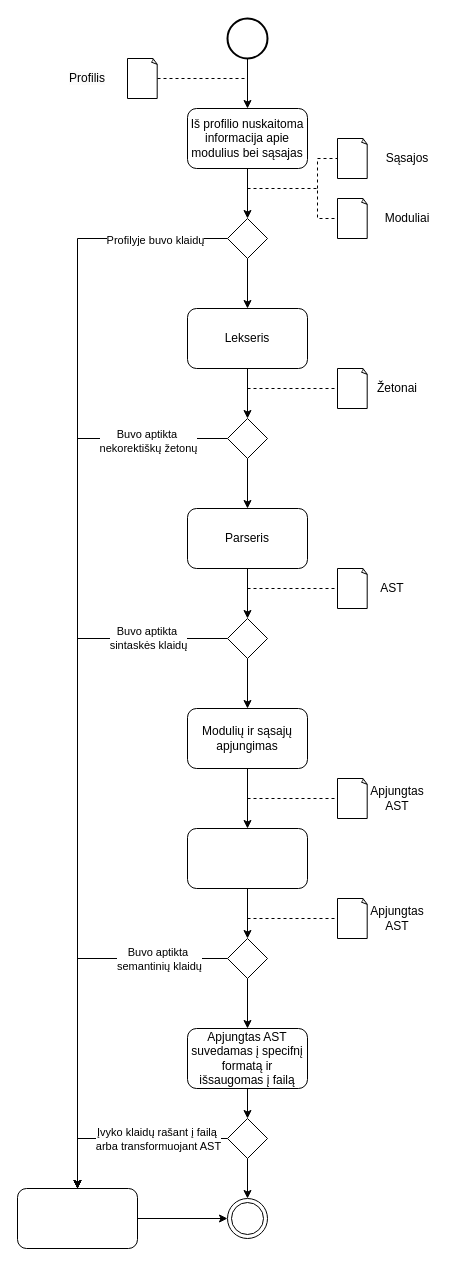
Image size: 455x1266. Some labels were removed from this diagram. Here are the shapes that lost their labels. From the top down, the centre of each, then its label:
the point at 247,858: Semantinio korektiškumo patikra
the point at 77,1218: Klaidos išspauzdinamos vartotojui
